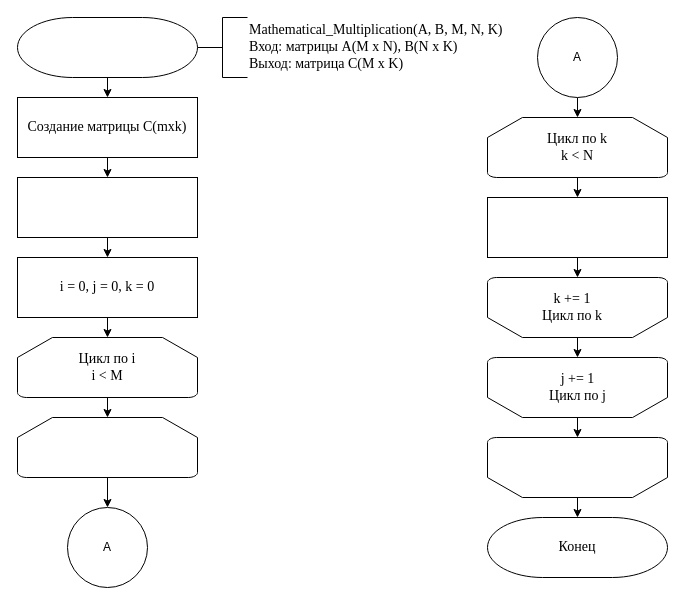
The diagram is 685 pixels wide and 605 high, and some of its shapes have lost their labels. The shapes that lost their labels are listed below. From the top down, each one's centre as x and y in pixels, then its label:
At pixel 107 47: "Начало".
At pixel 107 207: "Инициализация каждой ячейки матрицы C(mxk) нулевыми значениями".
At pixel 577 227: "C[i][j] = C[i][j] + A[i][k] * B[k][j]".
At pixel 107 447: "Цикл по j j < K".
At pixel 577 467: "i += 1 Цикл по i".
